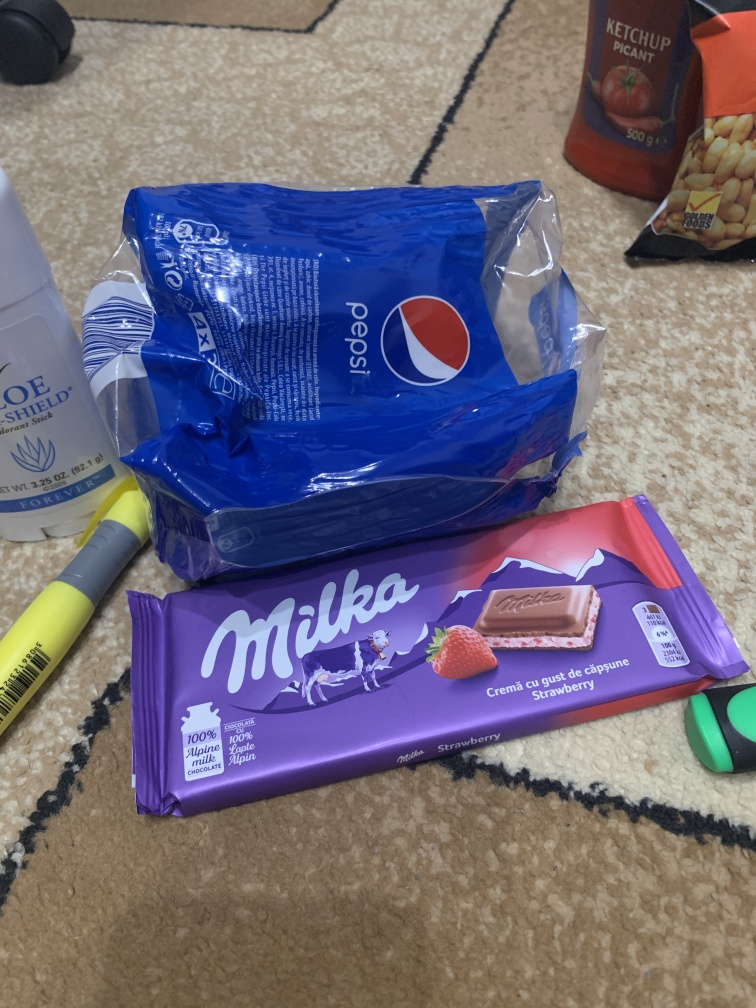ketchup: (566, 1, 706, 197)
milka: (123, 488, 752, 834)
peanuts: (643, 13, 756, 270)
